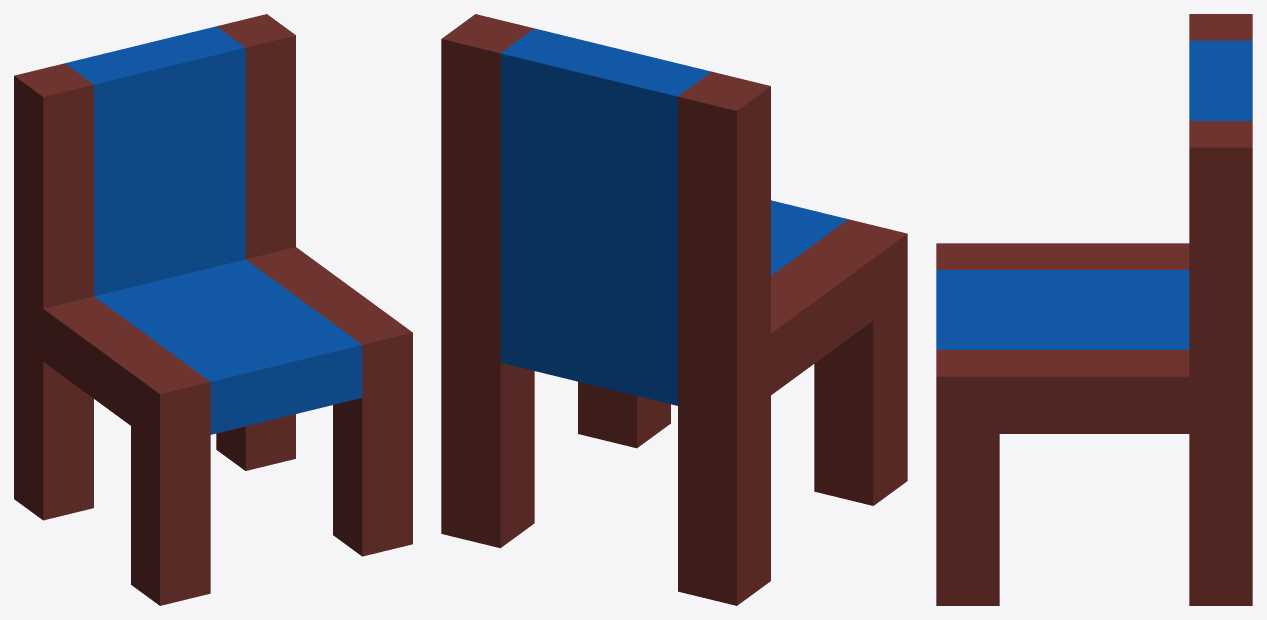
Rendered from chair_b_blue.obj.
3 renders of one model, left to right at view 1: azimuth 30°, elevation 25°; view 2: azimuth 150°, elevation 25°; view 3: azimuth 270°, elevation 25°, orthographic. The views are drawn at different scales.
Size of the model in its own units: 0.5 by 0.8 by 0.5.
Materials: 1 (1 with a texture image).
